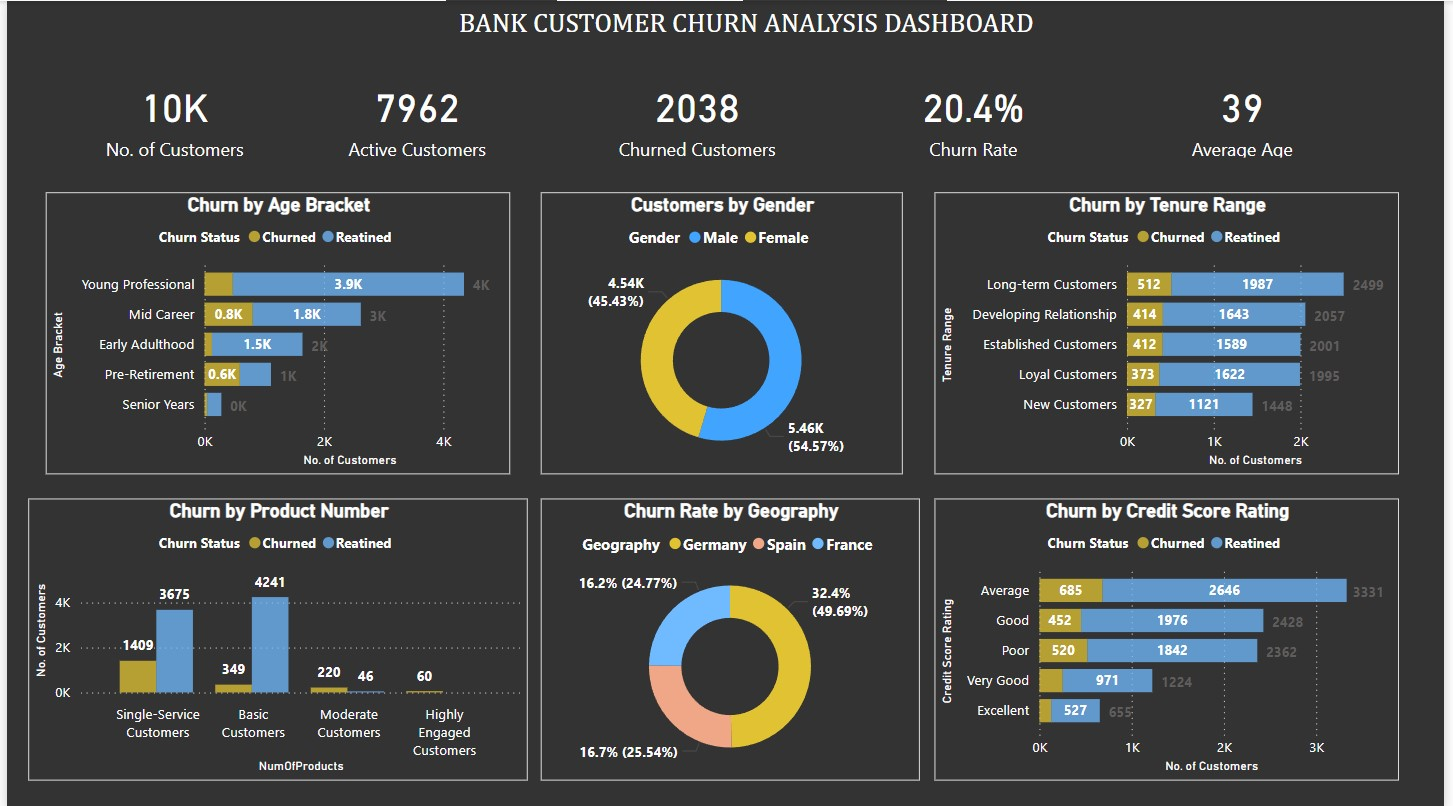

Layout of this report page (visuals, bound fields, positions):
{"tool":"powerbi","page":{"name":"Page 1","canvas":[1280,720],"ordinal":0},"visuals":[{"type":"textbox","box":[132.1,0,1051.6,44],"z":0},{"type":"card","fields":{"Values":["Measures (2).No. of Customers"]},"box":[65.1,63.9,167.7,80.8],"z":1000},{"type":"card","fields":{"Values":["Measures (2).Active Customers"]},"box":[281.1,63.9,167.7,80.8],"z":2000},{"type":"card","fields":{"Values":["Measures (2).Churned Customers"]},"box":[530.8,63.9,167.7,80.8],"z":3000},{"type":"card","fields":{"Values":["Measures (2).Average Age"]},"box":[1015.8,63.9,167.7,80.8],"z":4000},{"type":"card","fields":{"Values":["Measures (2).Churn Rate"]},"box":[776.9,63.9,167.7,80.8],"z":5000},{"type":"donutChart","title":"Customers by Gender","fields":{"Category":["Customer-Churn-Records.Gender"],"Y":["CountNonNull(Customer-Churn-Records.CustomerId)"]},"box":[475.3,170.1,322.1,250.9],"z":6000},{"type":"barChart","title":"Churn by Age Bracket","fields":{"Category":["Customer-Churn-Records.Age Bracket"],"Y":["Measures (2).No. of Customers"],"Series":["Customer-Churn-Records.Churn Status"]},"box":[35,170.1,413.8,250.9],"z":7000},{"type":"clusteredColumnChart","title":"Churn by Product Number","fields":{"Category":["Customer-Churn-Records.NumOfProducts"],"Y":["Measures (2).No. of Customers"],"Series":["Customer-Churn-Records.Churn Status"]},"box":[35,442.8,413.8,250.9],"z":8000},{"type":"barChart","title":"Churn by Tenure Range","fields":{"Y":["Measures (2).No. of Customers"],"Series":["Customer-Churn-Records.Churn Status"],"Category":["Customer-Churn-Records.Tenure Range"]},"box":[826.4,170.1,413.8,250.9],"z":9000},{"type":"barChart","title":"Churn by Credit Score Rating","fields":{"Y":["Measures (2).No. of Customers"],"Series":["Customer-Churn-Records.Churn Status"],"Category":["Customer-Churn-Records.Credit Score Rating"]},"box":[826.4,442.8,413.8,250.9],"z":10000},{"type":"donutChart","title":"Churn Rate by Geography","fields":{"Category":["Customer-Churn-Records.Geography"],"Y":["Measures (2).Churn Rate"]},"box":[475.3,442.8,337.8,250.9],"z":11000}]}

Visuals, with their boxes in screenshot pixels (x1, y1, x2, y2), scaled from the page's 1280x720 canvas onto the 1453x806 screenshot:
textbox: Rect(150, 0, 1344, 49)
card - Measures (2).No. of Customers: Rect(74, 72, 264, 162)
card - Measures (2).Active Customers: Rect(319, 72, 509, 162)
card - Measures (2).Churned Customers: Rect(603, 72, 793, 162)
card - Measures (2).Average Age: Rect(1153, 72, 1343, 162)
card - Measures (2).Churn Rate: Rect(882, 72, 1072, 162)
"Customers by Gender" donutChart: Rect(540, 190, 905, 471)
"Churn by Age Bracket" barChart: Rect(40, 190, 509, 471)
"Churn by Product Number" clusteredColumnChart: Rect(40, 496, 509, 777)
"Churn by Tenure Range" barChart: Rect(938, 190, 1408, 471)
"Churn by Credit Score Rating" barChart: Rect(938, 496, 1408, 777)
"Churn Rate by Geography" donutChart: Rect(540, 496, 923, 777)
